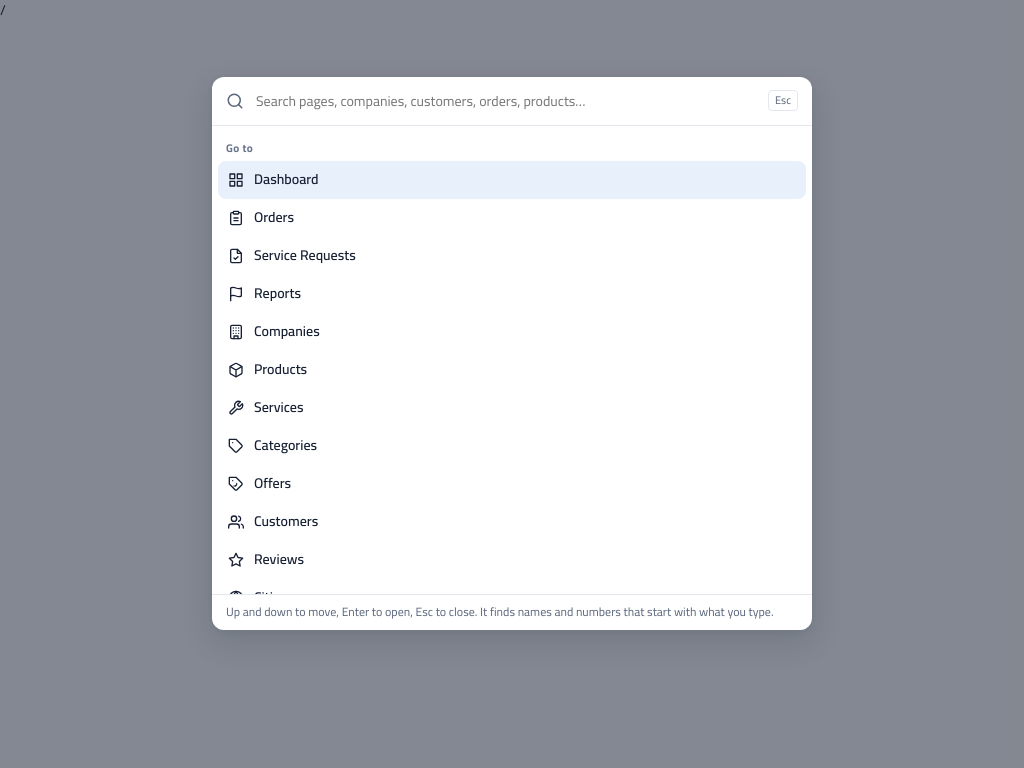
Test: searching the records › does not search for a single character
This screenshot has width=1024, height=768.
In the dropdown: (506, 101) 254,77 -> 758,125, type "n"
Wait 600 ms
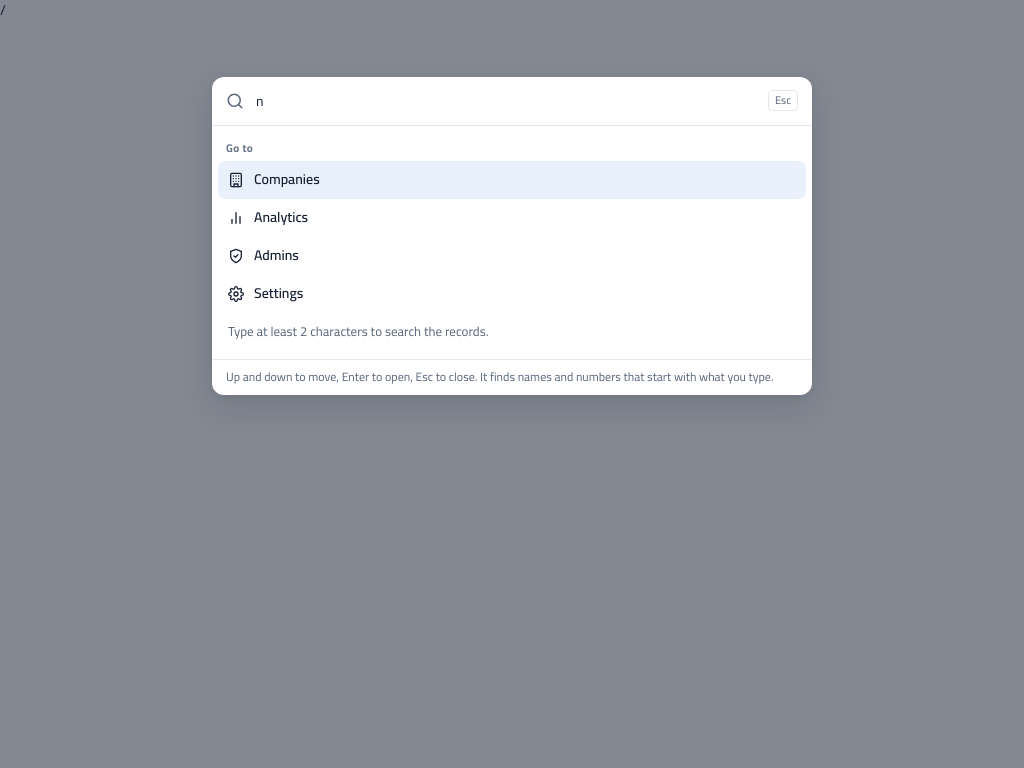
Expected: the text "Type at least 2 characters to search the records." is shown, 228,319 -> 488,343
